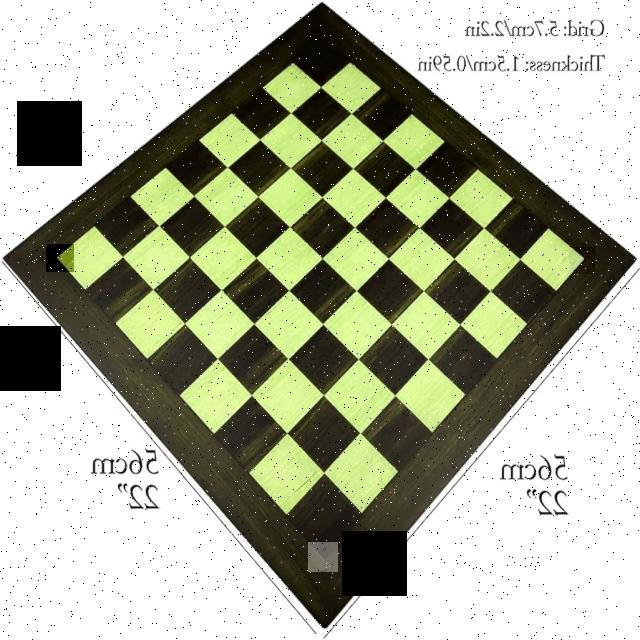chess-table-corners: (308, 542, 338, 572), (46, 244, 74, 272), (569, 247, 595, 274)
